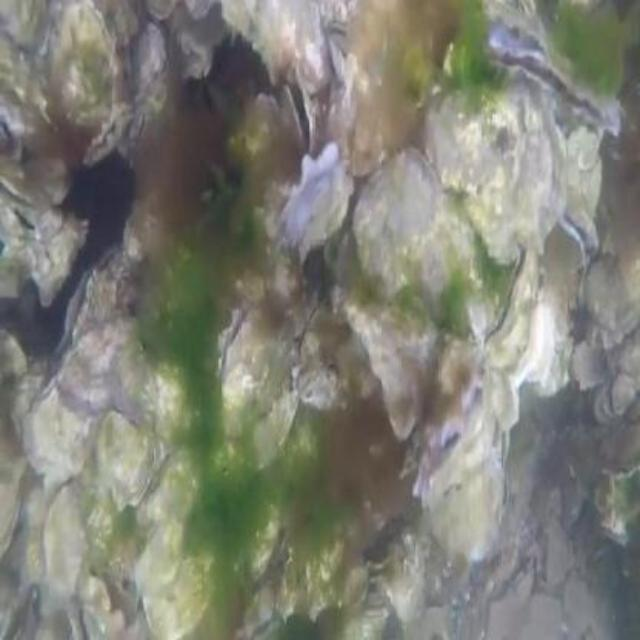Oyster-Closed: (419, 76, 568, 262), (354, 149, 478, 324), (343, 299, 442, 436), (218, 0, 330, 93), (59, 314, 149, 408), (24, 375, 97, 486), (50, 1, 118, 120), (485, 244, 540, 376), (143, 554, 215, 638), (42, 480, 91, 601), (97, 411, 156, 510), (137, 520, 183, 595), (294, 300, 337, 368), (132, 13, 167, 95), (0, 455, 26, 552), (575, 345, 610, 387), (612, 374, 635, 410), (144, 0, 174, 21)
Oyster-Open: (477, 43, 623, 132), (52, 244, 137, 355), (281, 145, 353, 251), (422, 339, 485, 455), (219, 302, 271, 437), (415, 425, 470, 510), (544, 206, 600, 279), (483, 3, 553, 56), (281, 72, 317, 156), (85, 102, 130, 168), (245, 588, 282, 638), (329, 21, 356, 48), (494, 427, 509, 470)
